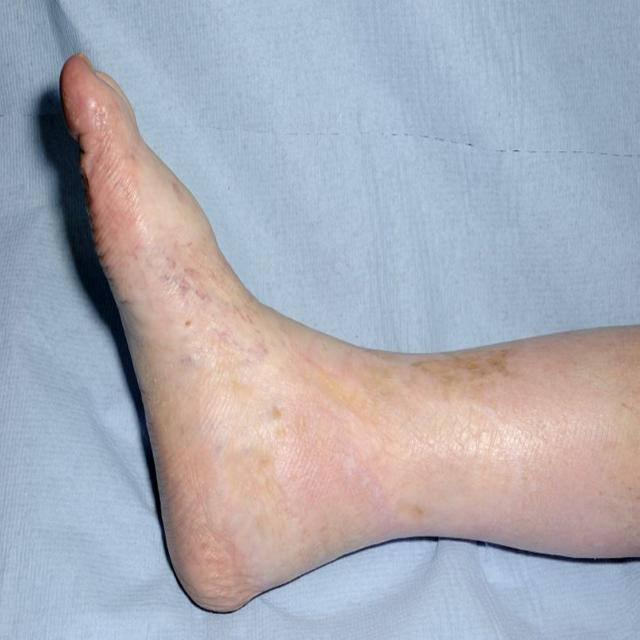wound: (350, 347, 584, 435)
